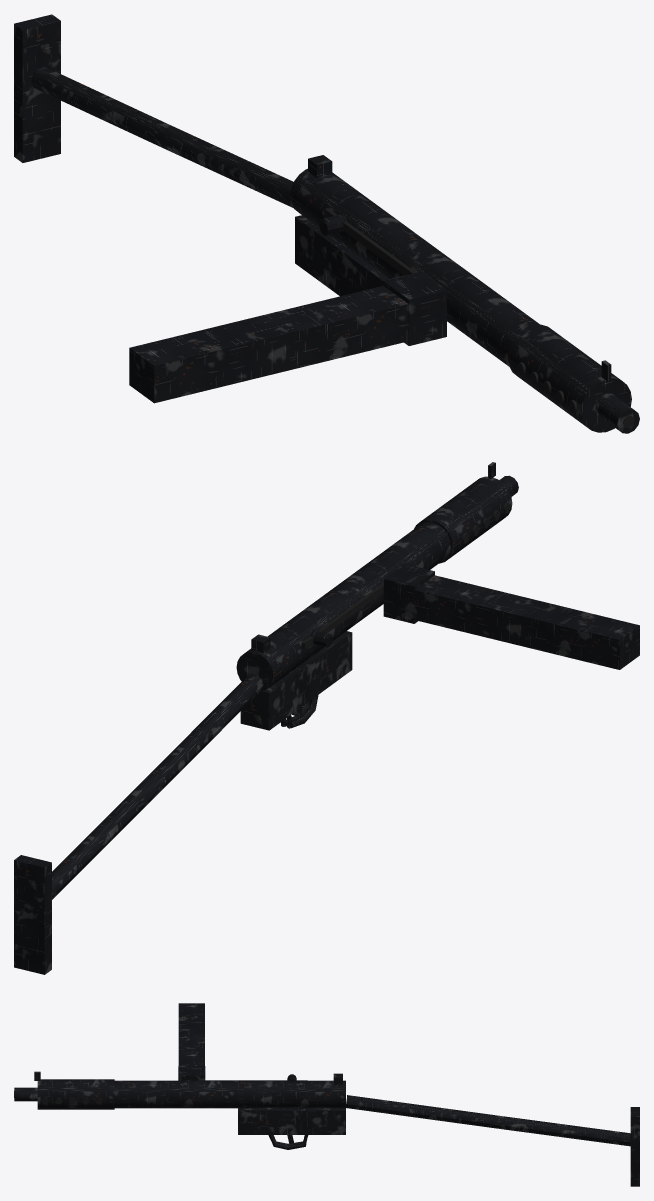
The model's file is sten.glb.
3 views of the same model, one above another, from view 1: azimuth 30°, elevation 25°; view 2: azimuth 150°, elevation 25°; view 3: azimuth 270°, elevation 25° (orthographic). The views are drawn at different scales.
Visible parts, largest first — view 1: Sten_MkII; view 2: Sten_MkII; view 3: Sten_MkII.
Boxes of the visible parts, <box> form: Sten_MkII: <box>14,14,639,433</box>; Sten_MkII: <box>14,462,639,974</box>; Sten_MkII: <box>14,1003,639,1186</box>.
Bounding box in the file's own units: 0.2714 × 0.157 × 0.8115.
Materials: 2 (1 with a texture image).
